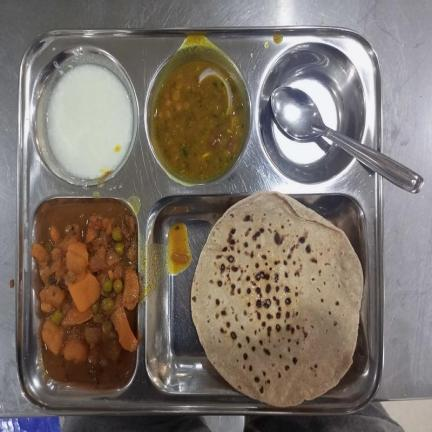Aalu Ki Sabji: (32, 203, 139, 388)
Chana Dal: (156, 62, 242, 178)
Dahi: (47, 62, 133, 179)
Plate: (15, 27, 385, 414)
Roti: (191, 189, 364, 408)
